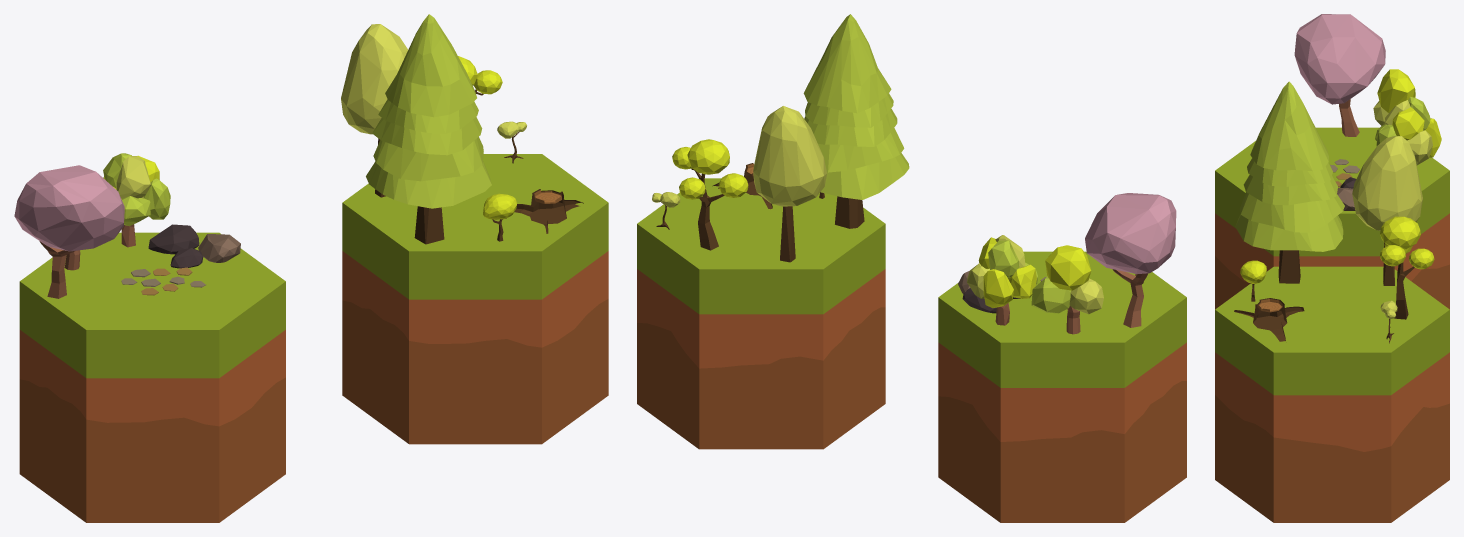
File: nature-assets.fbx
3 views of the same model, side by side, from view 1: azimuth 30°, elevation 25°; view 2: azimuth 150°, elevation 25°; view 3: azimuth 270°, elevation 25° (orthographic). The views are drawn at different scales.
Visible parts, largest first — view 1: Cylinder.010, Cylinder.001, Cylinder, Icosphere.004, Icosphere.002, Icosphere.003, Circle, Icosphere.007, Icosphere.006, Icosphere, Vert.001; view 2: Cylinder.001, Cylinder.010, Cylinder, Icosphere.004, Icosphere.002, Icosphere.001, Icosphere.003, Vert.001; view 3: Cylinder.001, Cylinder.010, Cylinder, Icosphere.004, Icosphere.002, Vert.001, Icosphere.003, Icosphere.001, Circle, Icosphere, Icosphere.006, Icosphere.005.
Boxes of the visible parts, box(x1,y1,x2,y2) form: Cylinder.010: box(19, 232, 285, 522); Cylinder.001: box(342, 154, 608, 444); Cylinder: box(366, 14, 491, 244); Icosphere.004: box(14, 165, 124, 298); Icosphere.002: box(341, 24, 407, 197); Icosphere.003: box(103, 153, 170, 247); Circle: box(514, 189, 583, 233); Icosphere.007: box(148, 224, 199, 254); Icosphere.006: box(198, 234, 240, 262); Icosphere: box(483, 193, 517, 241); Vert.001: box(458, 56, 502, 95); Cylinder.001: box(637, 178, 885, 449); Cylinder.010: box(938, 251, 1186, 522); Cylinder: box(803, 14, 909, 228); Icosphere.004: box(1085, 193, 1176, 327); Icosphere.002: box(753, 106, 826, 262); Icosphere.001: box(1031, 245, 1103, 334); Icosphere.003: box(967, 235, 1037, 325); Vert.001: box(672, 139, 748, 250); Cylinder.001: box(1215, 266, 1449, 522); Cylinder.010: box(1215, 127, 1449, 309); Cylinder: box(1235, 81, 1344, 283); Icosphere.004: box(1294, 14, 1385, 136); Icosphere.002: box(1352, 135, 1422, 285); Vert.001: box(1380, 216, 1434, 319); Icosphere.003: box(1375, 97, 1441, 165); Icosphere.001: box(1373, 69, 1415, 125); Circle: box(1234, 298, 1304, 341); Icosphere: box(1240, 260, 1266, 301); Icosphere.006: box(1337, 188, 1355, 210); Icosphere.005: box(1380, 300, 1397, 343).
Bounding box in the file's own units: 2371 × 1728 × 1000.
